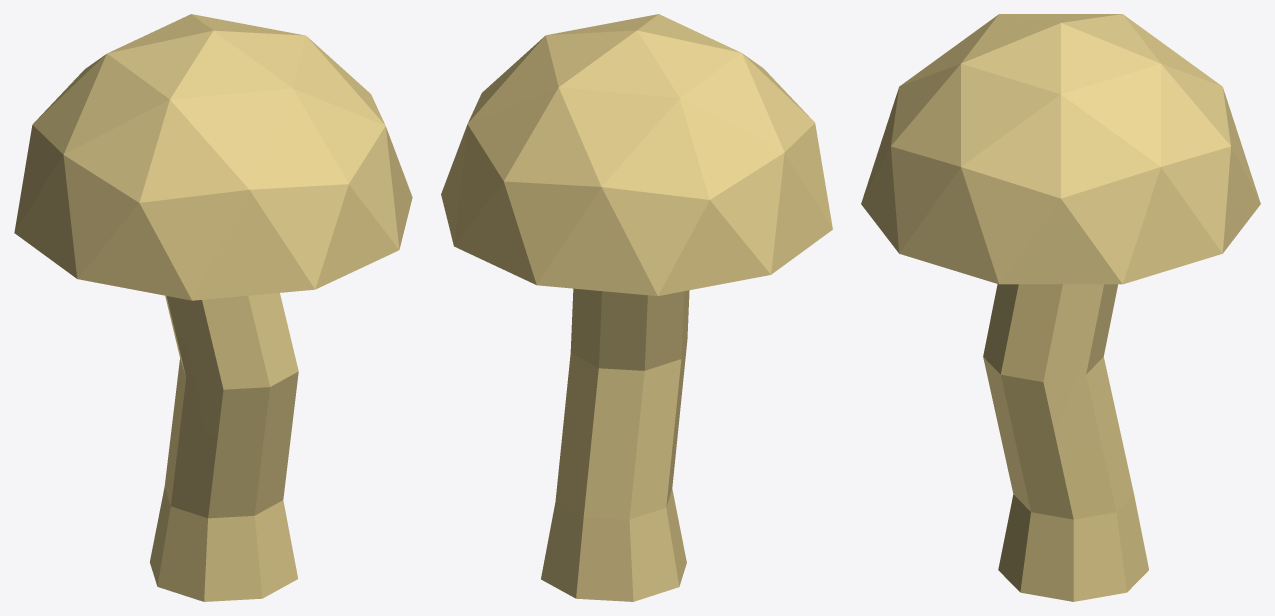
Rendered from mushroom_done.fbx.
3 views of the same model, side by side, from view 1: azimuth 30°, elevation 25°; view 2: azimuth 150°, elevation 25°; view 3: azimuth 270°, elevation 25° (orthographic).
Parts seen in each view (by area): view 1: Icosphere; view 2: Icosphere; view 3: Icosphere.
Boxes of the visible parts, <box> form: Icosphere: <box>14,14,412,601</box>; Icosphere: <box>441,14,832,601</box>; Icosphere: <box>861,14,1260,601</box>.
Bounding box in the file's own units: 504 × 788 × 530.
